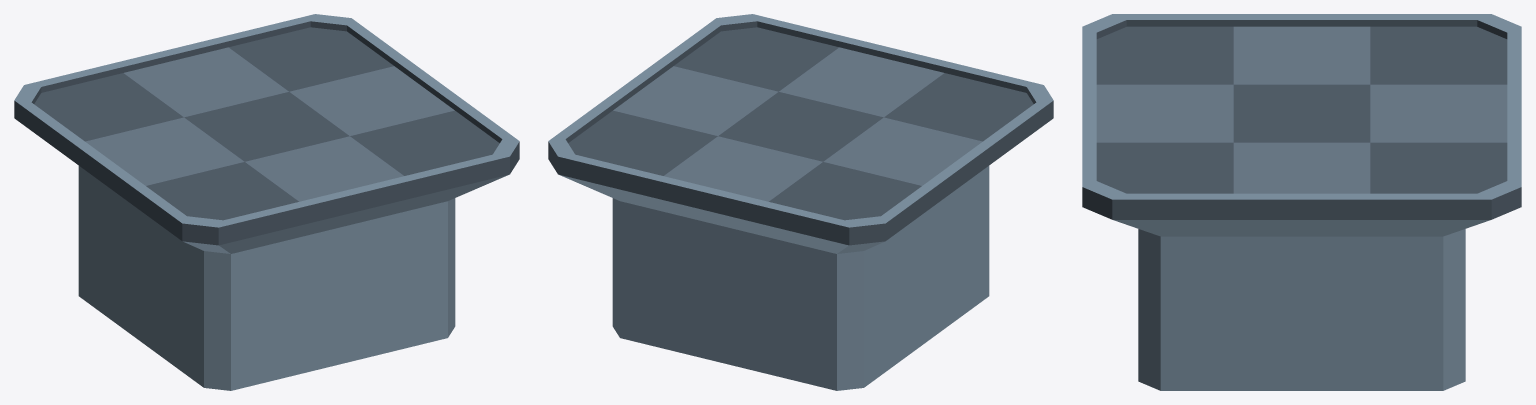
Rendered from Board.fbx.
The picture shows the model from 3 angles, left to right: view 1: azimuth 30°, elevation 25°; view 2: azimuth 150°, elevation 25°; view 3: azimuth 270°, elevation 25°; orthographic projection. The views are drawn at different scales.
Visible parts, largest first — view 1: Board; view 2: Board; view 3: Board.
Boxes of the visible parts, x1,y1,x2,y2 form: Board: (14,14,519,390); Board: (548,14,1053,390); Board: (1082,14,1521,390).
Bounding box in the file's own units: 9.62 × 5.2 × 9.62.
